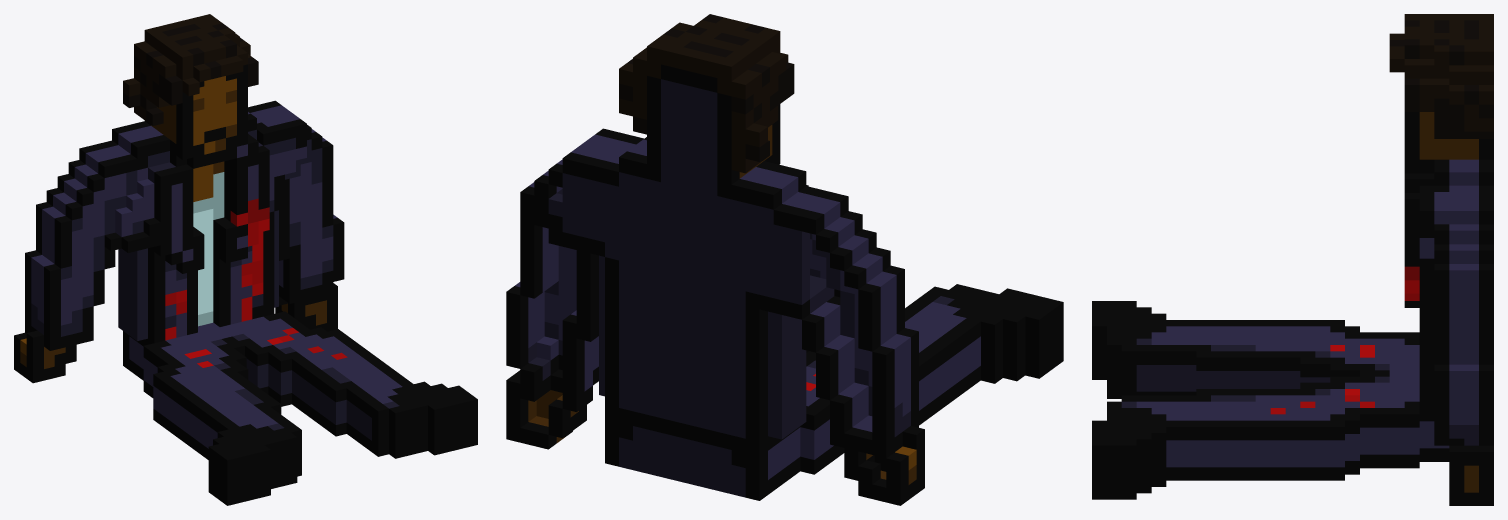
The model's file is HuddsWall.obj.
3 views of the same model, side by side, from view 1: azimuth 30°, elevation 25°; view 2: azimuth 150°, elevation 25°; view 3: azimuth 270°, elevation 25° (orthographic). The views are drawn at different scales.
Bounding box in the file's own units: 2.8 × 2.9 × 2.7.
Materials: 1 (1 with a texture image).
